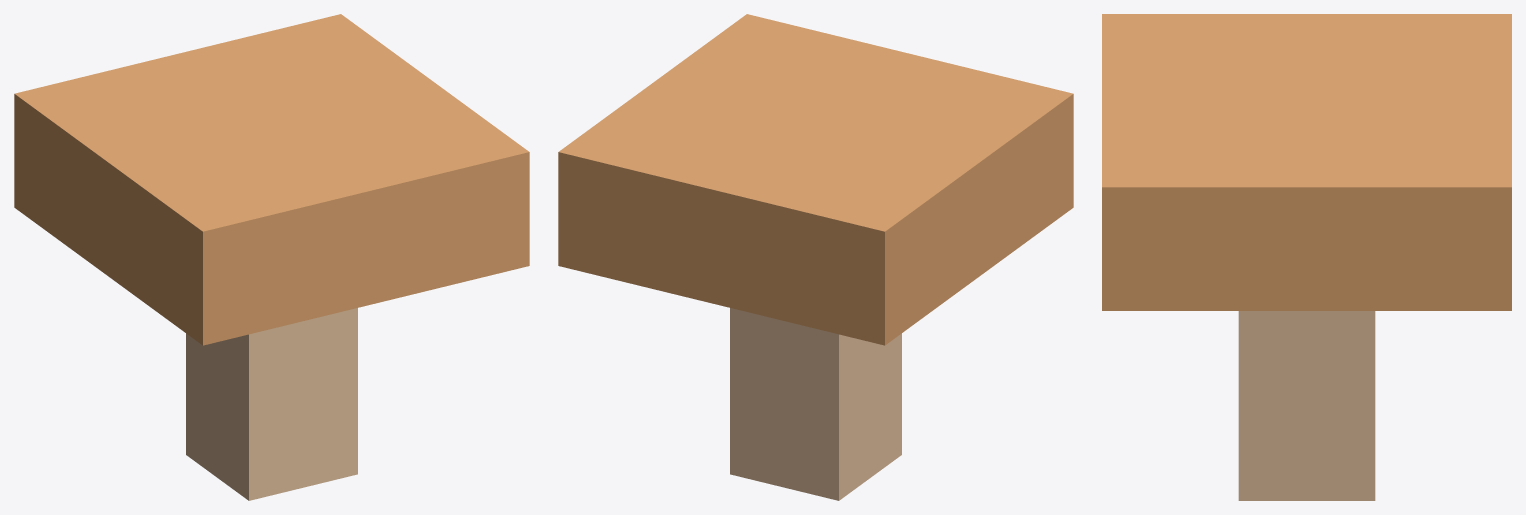
Rendered from tile-41.obj.
3 views of the same model, side by side, from view 1: azimuth 30°, elevation 25°; view 2: azimuth 150°, elevation 25°; view 3: azimuth 270°, elevation 25° (orthographic). The views are drawn at different scales.
Bounding box in the file's own units: 0.3 × 0.3 × 0.3.
1 material, 1 textured.
